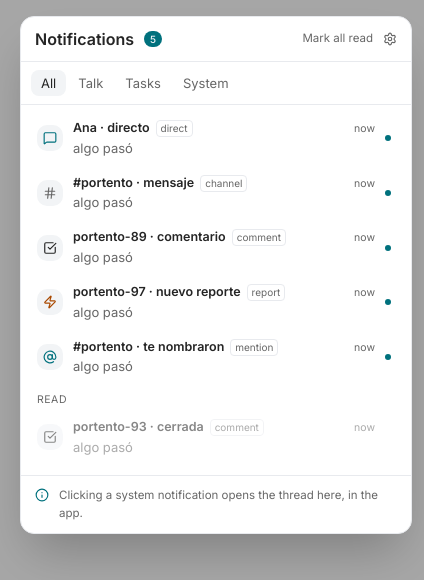
Test: el panel de notificaciones › «Sistema» se queda con lo que llegó de fuera
Click the button "System" at (206, 83), box [173,70,238,96]
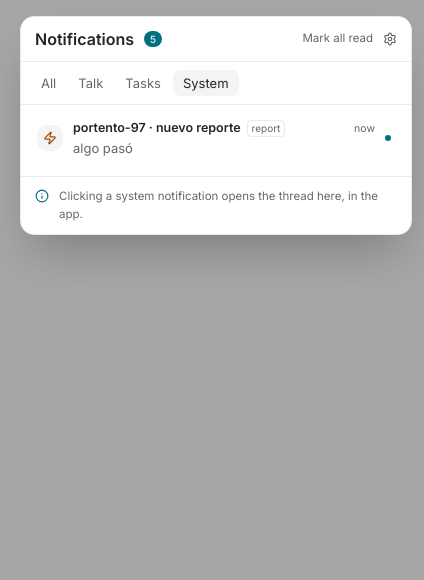
Expected: the text "portento-97 · nuevo reporte" is shown, [73,119,241,138]
Now the button "Ana · directo" is gone
